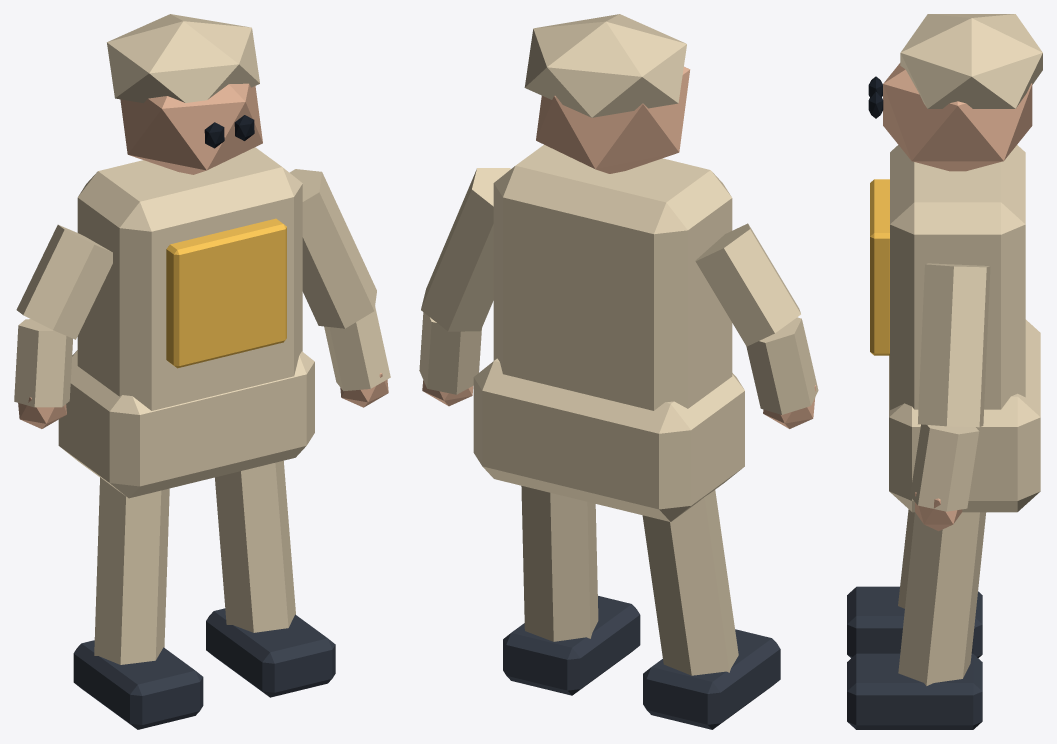
Rendered from npcs_035_seed78877.glb.
The picture shows the model from 3 angles, left to right: view 1: azimuth 30°, elevation 25°; view 2: azimuth 150°, elevation 25°; view 3: azimuth 270°, elevation 25°; orthographic projection. The views are drawn at different scales.
Visible parts, largest first — view 1: npcs_035_seed78877; view 2: npcs_035_seed78877; view 3: npcs_035_seed78877.
Boxes of the visible parts, x1,y1,x2,y2 form: npcs_035_seed78877: (14,14,390,729); npcs_035_seed78877: (419,14,818,729); npcs_035_seed78877: (847,14,1042,729).
Bounding box in the file's own units: 0.9273 × 1.54 × 0.4108.
